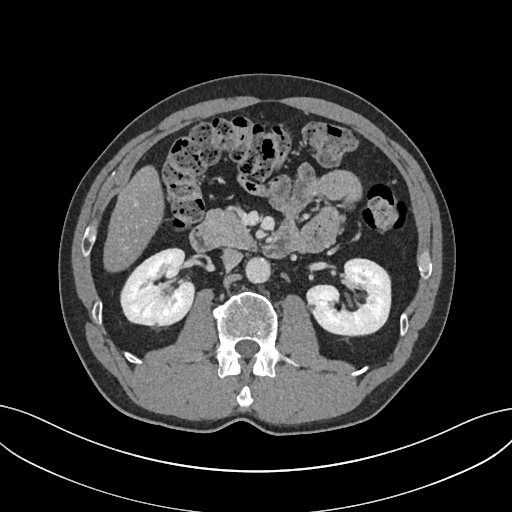Lesion: (305, 301, 316, 314)
